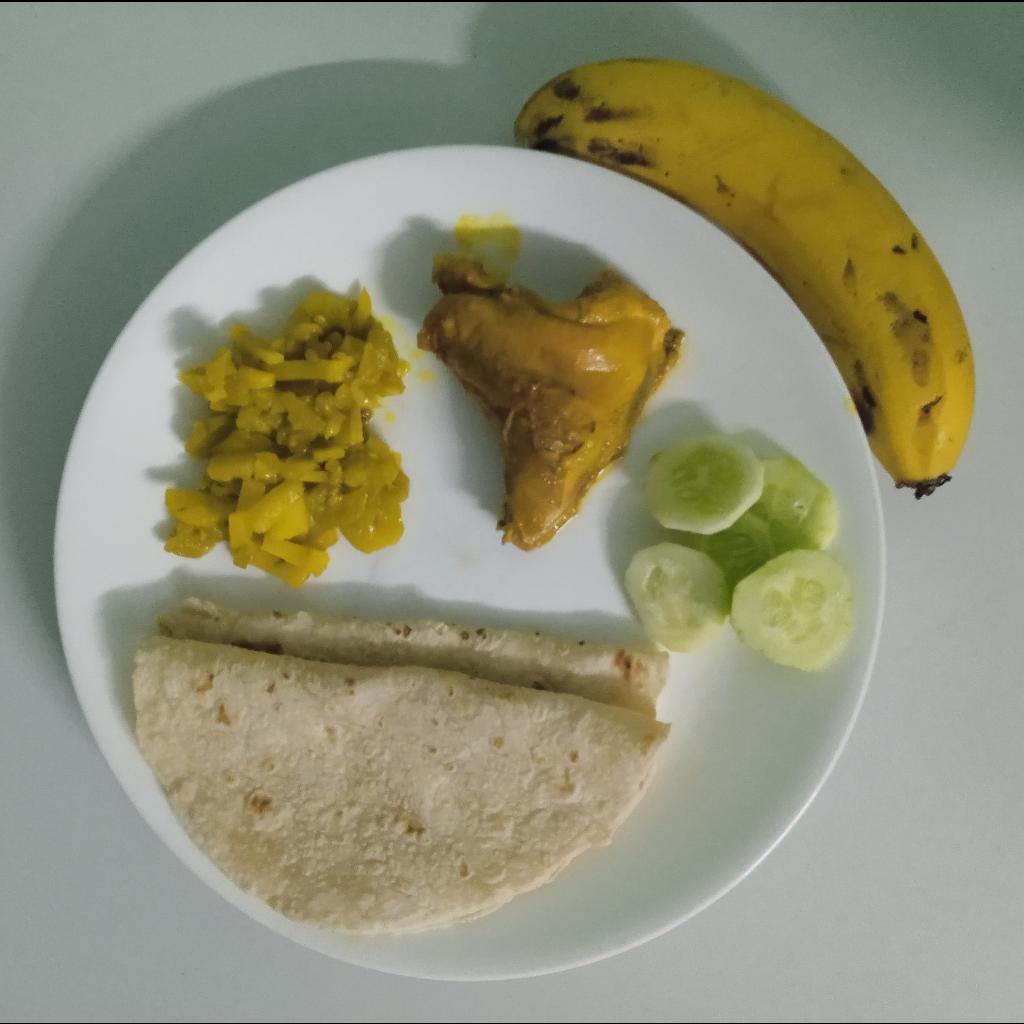banana: (516, 56, 978, 502)
chicken: (420, 255, 680, 558)
cucumber: (624, 434, 857, 672)
lau: (160, 288, 415, 586)
ruti: (129, 598, 672, 936)
